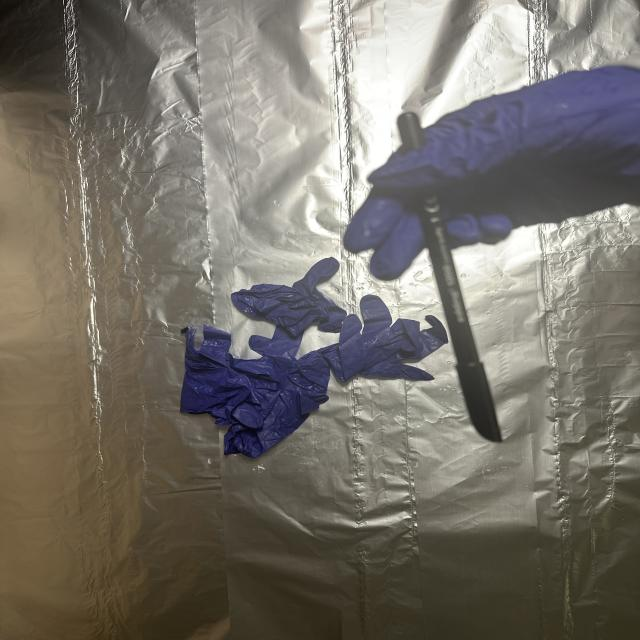gloves_contaminated: (344, 66, 640, 279)
